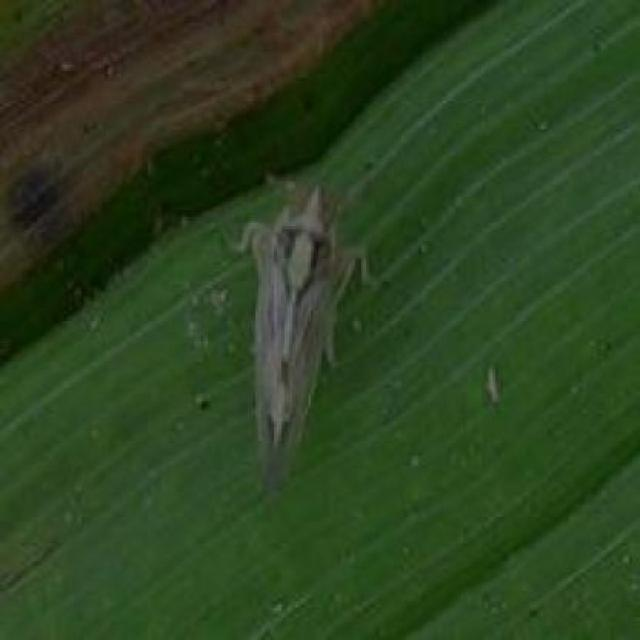brown-planthopper: (244, 181, 339, 487)
